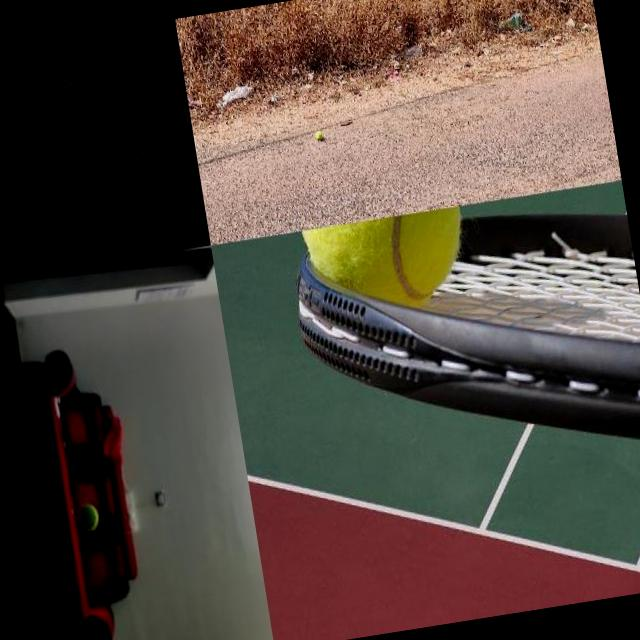Tennis Ball: (74, 502, 101, 534), (314, 131, 322, 141)
